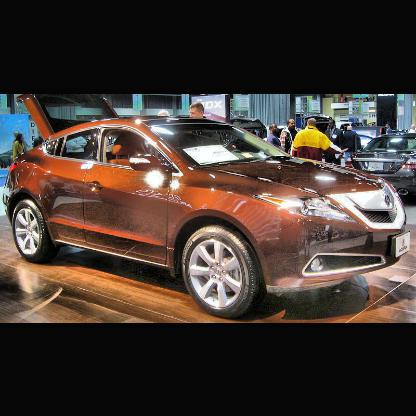Acura ZDX Hatchback 2012: (5, 115, 410, 317)
